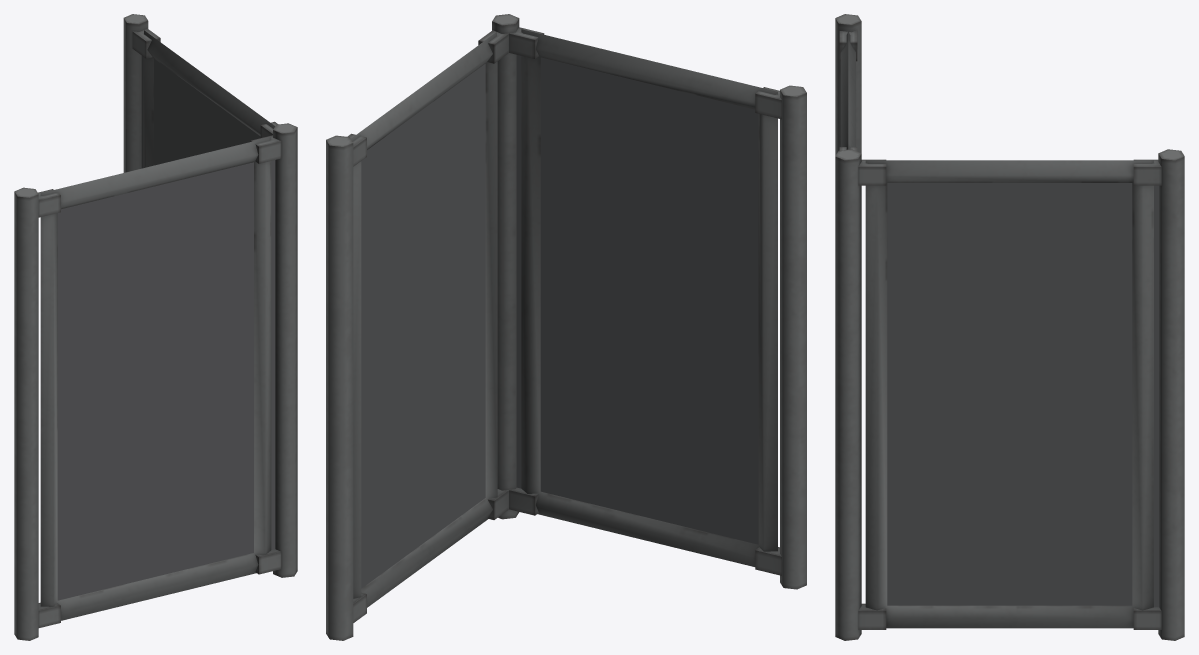
File: sb_obj_ModernCity108_fence_b.fbx
3 renders of one model, left to right at view 1: azimuth 30°, elevation 25°; view 2: azimuth 150°, elevation 25°; view 3: azimuth 270°, elevation 25°, orthographic. The views are drawn at different scales.
Parts seen in each view (by area): view 1: sb_obj_ModernCity108_fence_b; view 2: sb_obj_ModernCity108_fence_b; view 3: sb_obj_ModernCity108_fence_b.
Part boxes in pixels (x1,y1,x2,y2): sb_obj_ModernCity108_fence_b: (14,14,297,640); sb_obj_ModernCity108_fence_b: (326,14,806,640); sb_obj_ModernCity108_fence_b: (835,14,1184,640).
Bounding box in the file's own units: 0.5408 × 0.8204 × 0.541.
